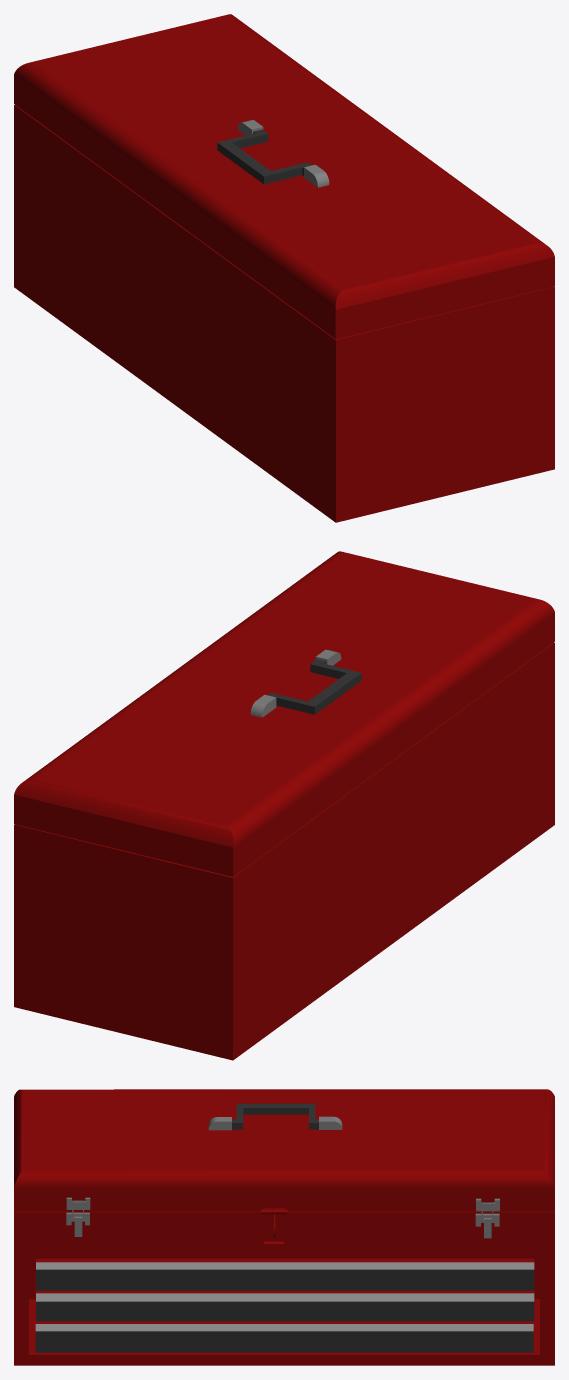
File: Toolbox.fbx
3 views of the same model, one above another, from view 1: azimuth 30°, elevation 25°; view 2: azimuth 150°, elevation 25°; view 3: azimuth 270°, elevation 25° (orthographic). The views are drawn at different scales.
Visible parts, largest first — view 1: Toolbox_Base, Toolbox_top; view 2: Toolbox_Base, Toolbox_top; view 3: Toolbox_Base, Toolbox_top.
Boxes of the visible parts, x1,y1,x2,y2 form: Toolbox_Base: (14, 104, 554, 522); Toolbox_top: (14, 14, 554, 338); Toolbox_Base: (14, 642, 554, 1060); Toolbox_top: (14, 551, 554, 876); Toolbox_Base: (14, 1200, 554, 1365); Toolbox_top: (14, 1089, 554, 1245).
Bounding box in the file's own units: 42.88 × 39.78 × 98.04.
